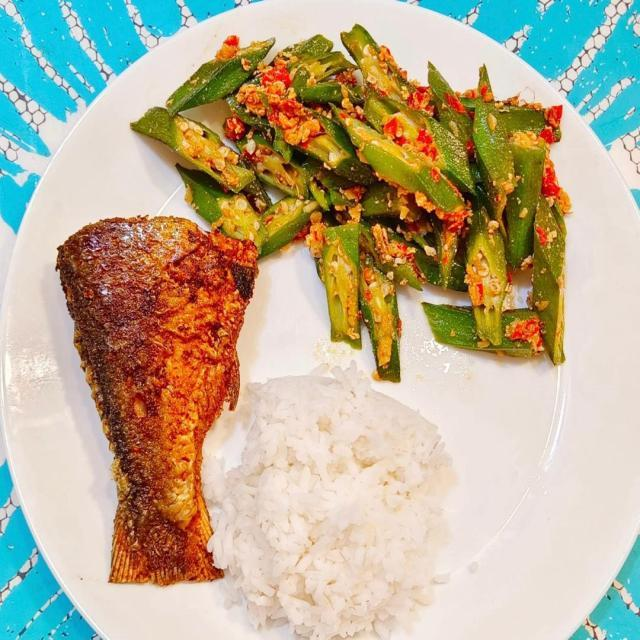Fish: (62, 217, 262, 581)
Plate: (0, 0, 99, 116)
Rice: (214, 374, 454, 638)
Vegetables: (135, 23, 570, 379)
